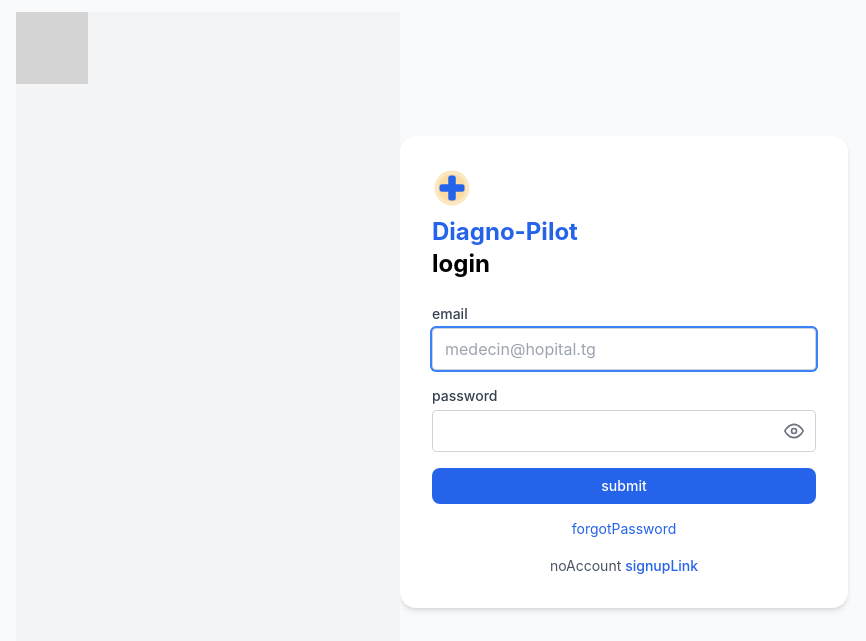
Test: LoginPage — inline validation (Req 1.6, 1.7, 1.8) › shows email invalid error when submitting with invalid email format
The width and height of the screenshot is (866, 641).
Type "not-an-email" into the field with id "email". click: (624, 349)
box: [432,328,816,370]
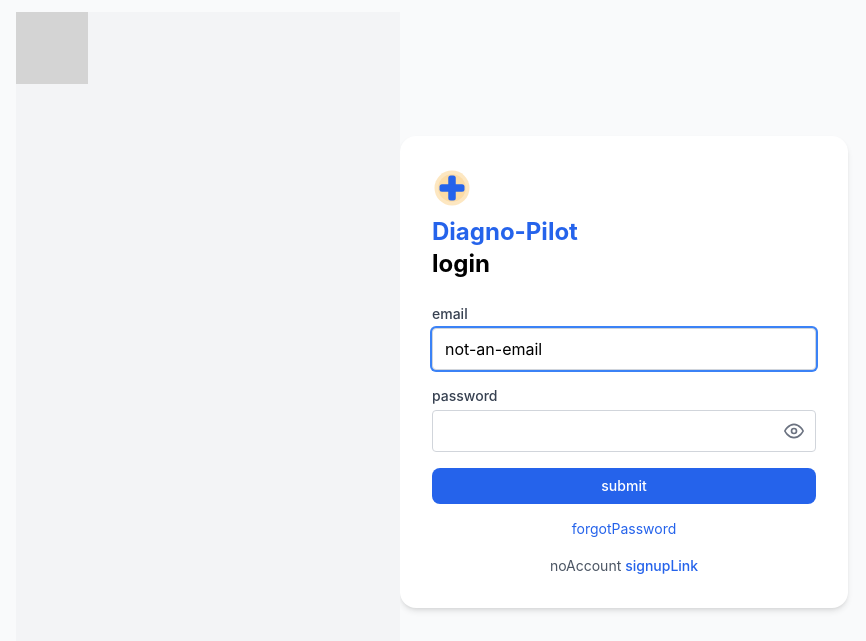
Type "password123" into the password field labelled "password". click: (624, 431)
box: [432,410,816,452]
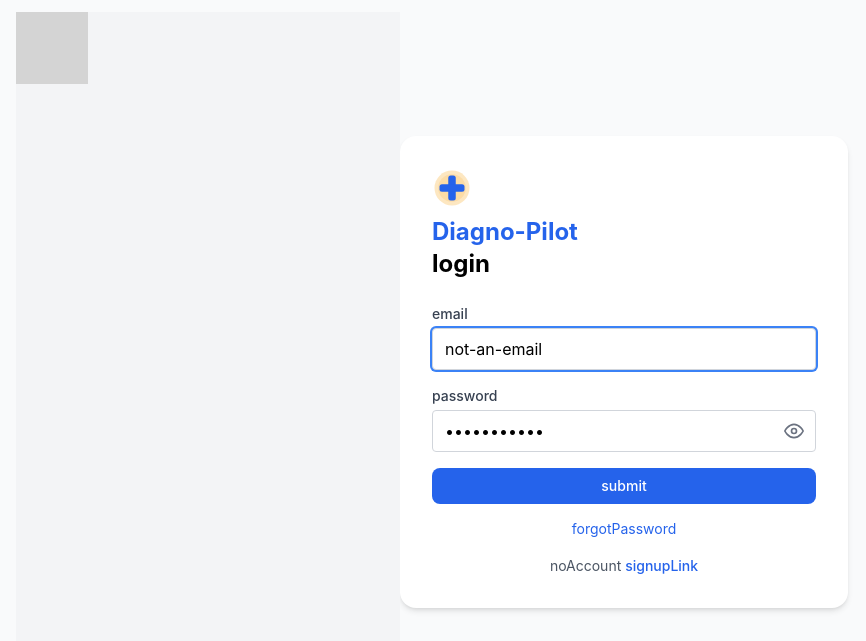
Submit the form "email password submit", box [432,304,816,504]
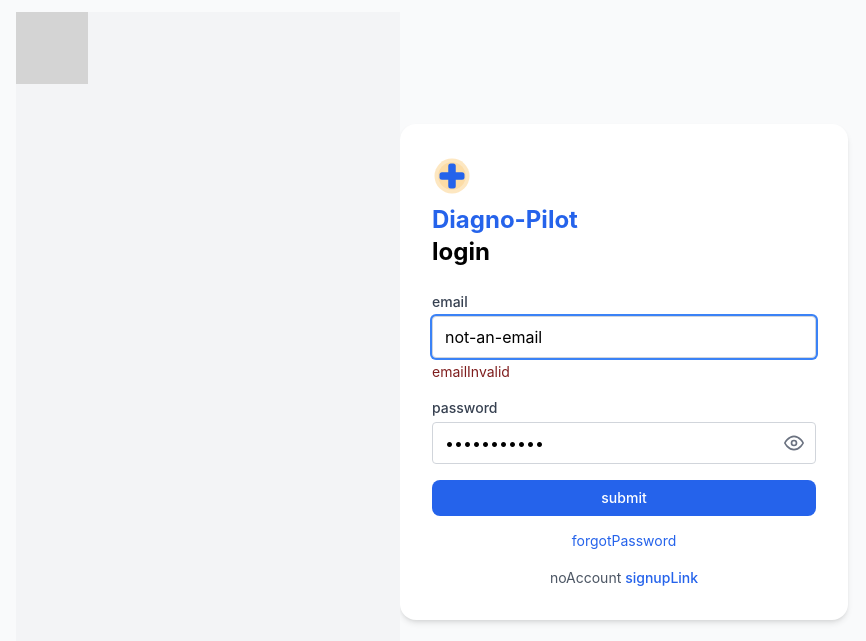
Result: the text "emailInvalid" is shown at [432,363,510,380]
